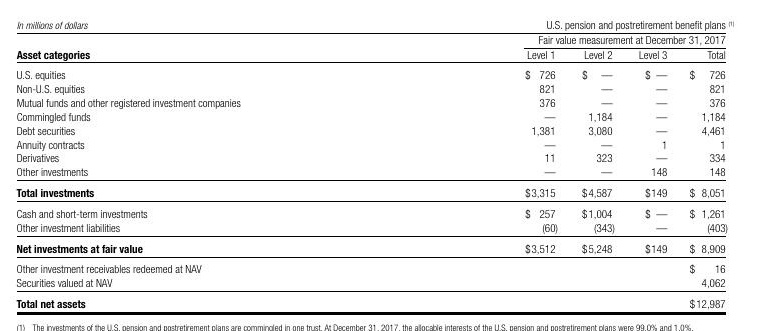table: (0, 0, 759, 331)
